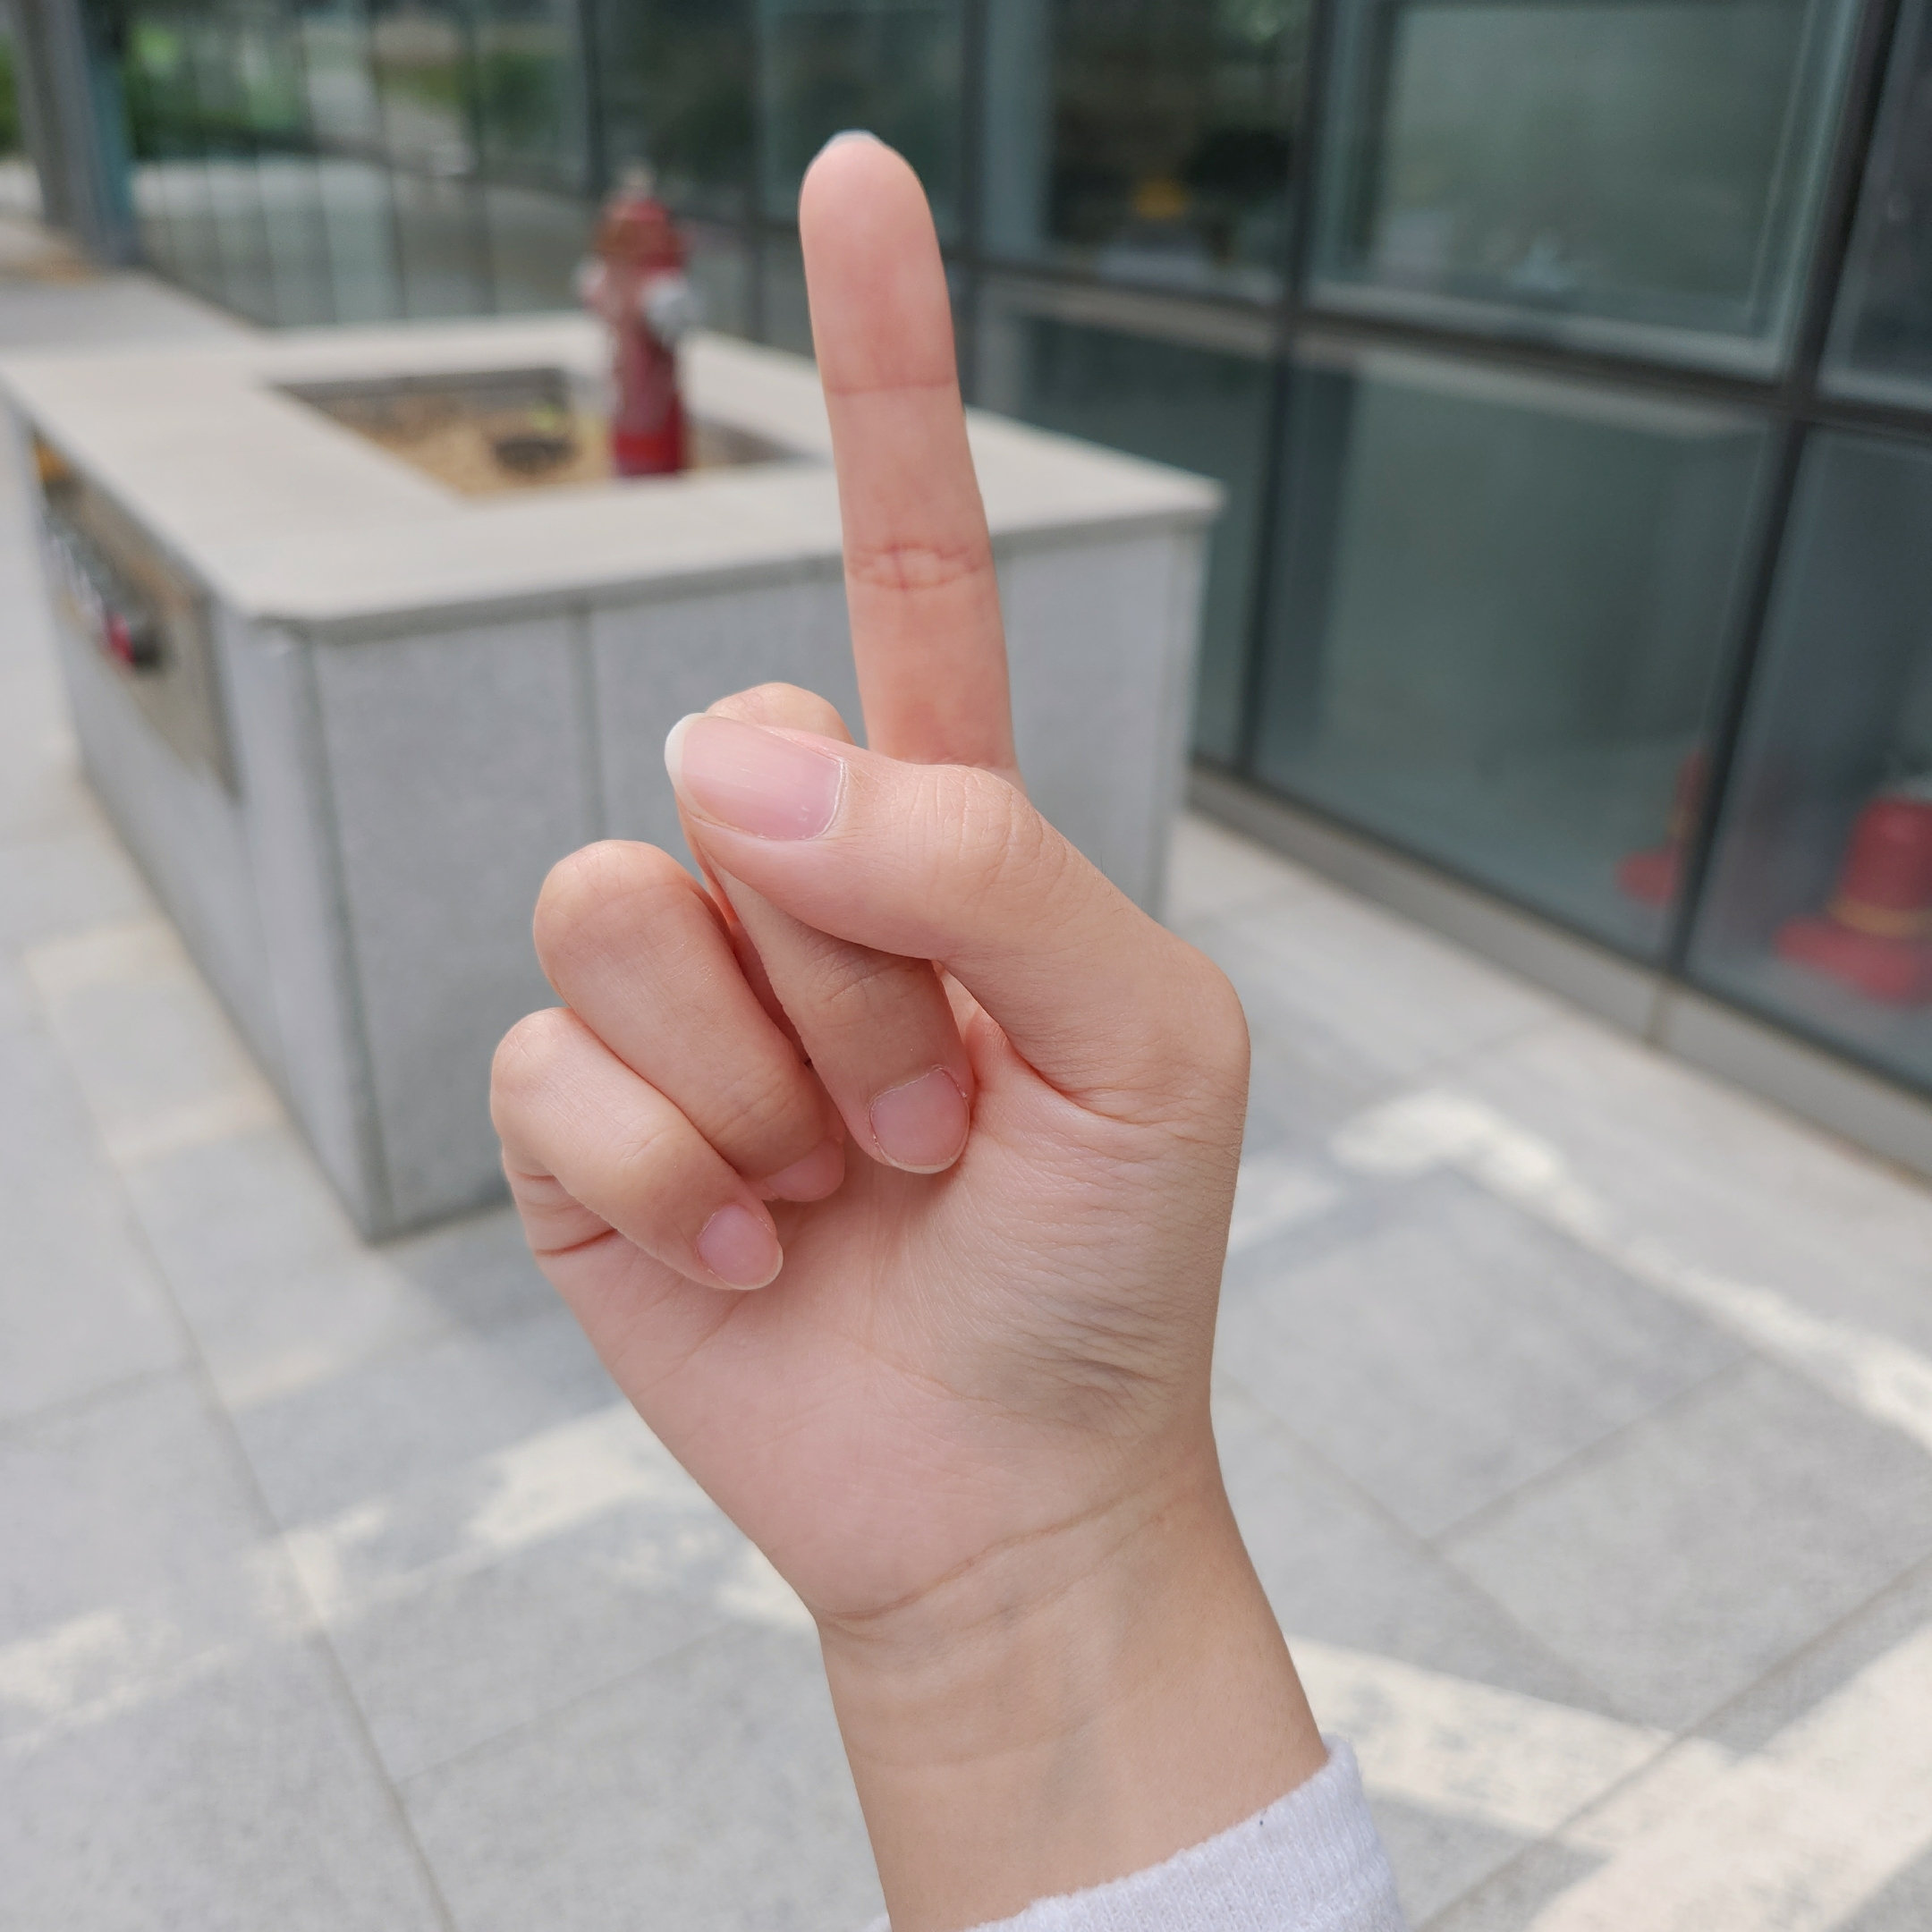what: (468, 126, 1267, 1614)
